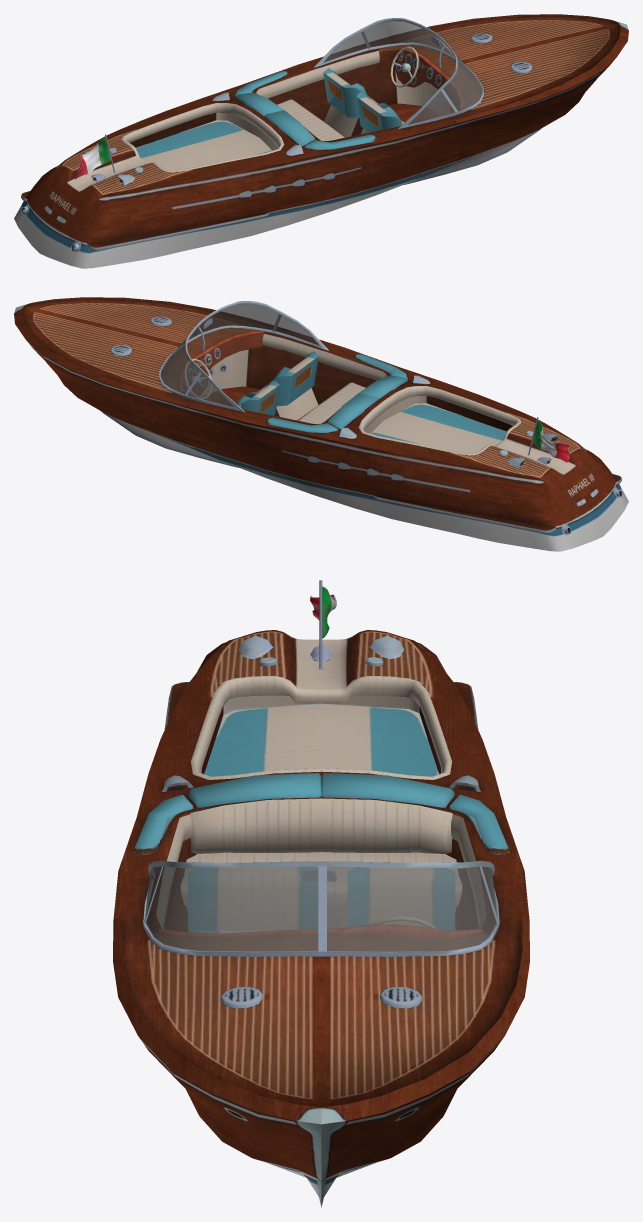
The model's file is boat-riva.glb.
3 views of the same model, one above another, from view 1: azimuth 30°, elevation 25°; view 2: azimuth 150°, elevation 25°; view 3: azimuth 270°, elevation 25° (orthographic). The views are drawn at different scales.
Parts seen in each view (by area): view 1: defaultMaterial; view 2: defaultMaterial; view 3: defaultMaterial.
Boxes of the visible parts, <box> form: defaultMaterial: <box>14,14,628,268</box>; defaultMaterial: <box>14,297,628,551</box>; defaultMaterial: <box>113,580,529,1207</box>.
Bounding box in the file's own units: 352 × 82.6 × 108.
Materials: 1 (1 with a texture image).
